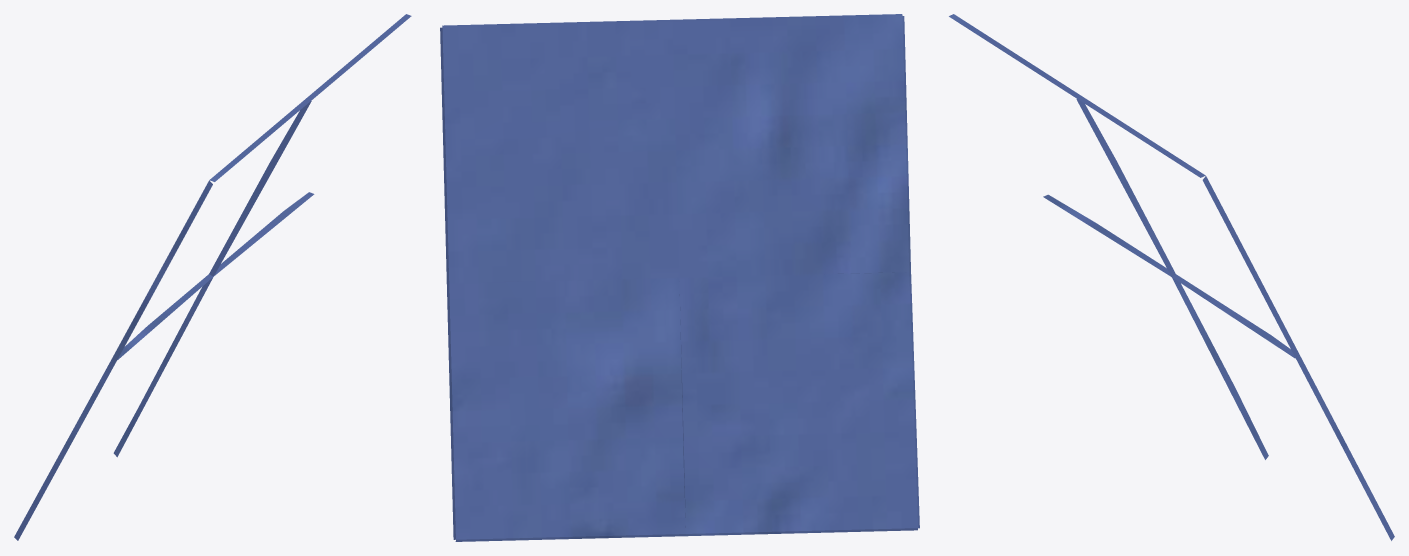
3 views of the same model, side by side, from view 1: azimuth 30°, elevation 25°; view 2: azimuth 150°, elevation 25°; view 3: azimuth 270°, elevation 25° (orthographic). The views are drawn at different scales.
Size of the model in its own units: 78866 by 70810 by 68624.
1 material, 1 textured.
